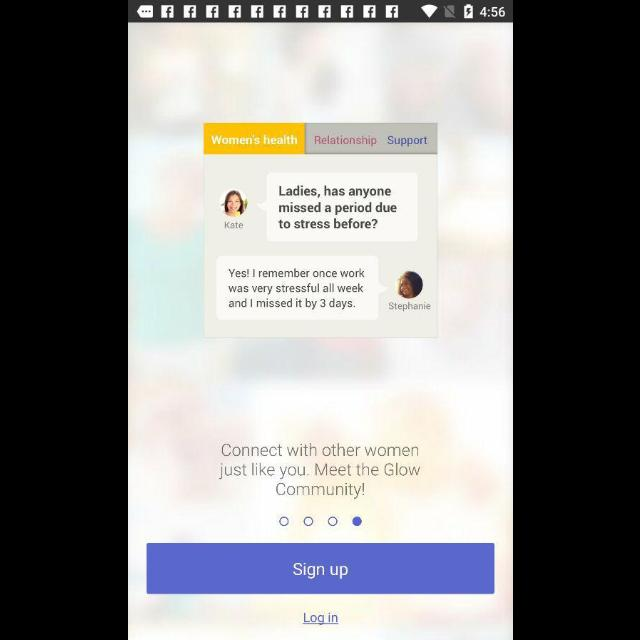image: (203, 123, 437, 339)
pageindicator: (278, 516, 362, 526)
text: (218, 443, 420, 499), (302, 612, 338, 626)
textbutton: (146, 544, 494, 594)
uppertaskbar: (128, 1, 512, 23)
